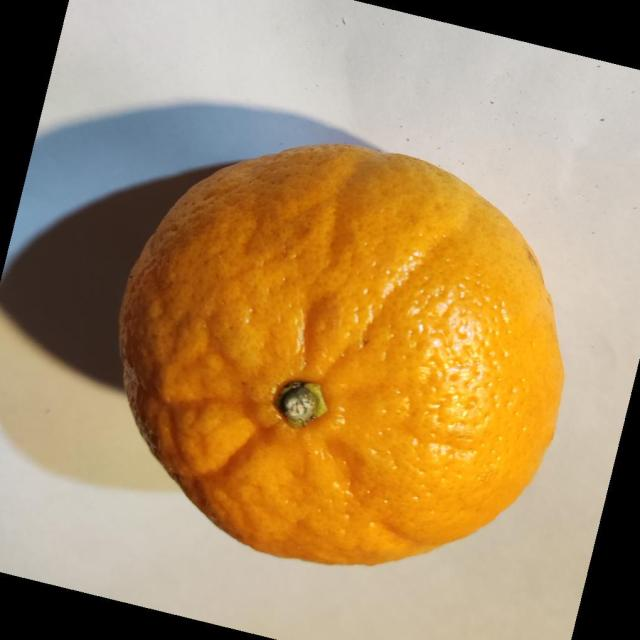fresh orange: (116, 142, 564, 566)
